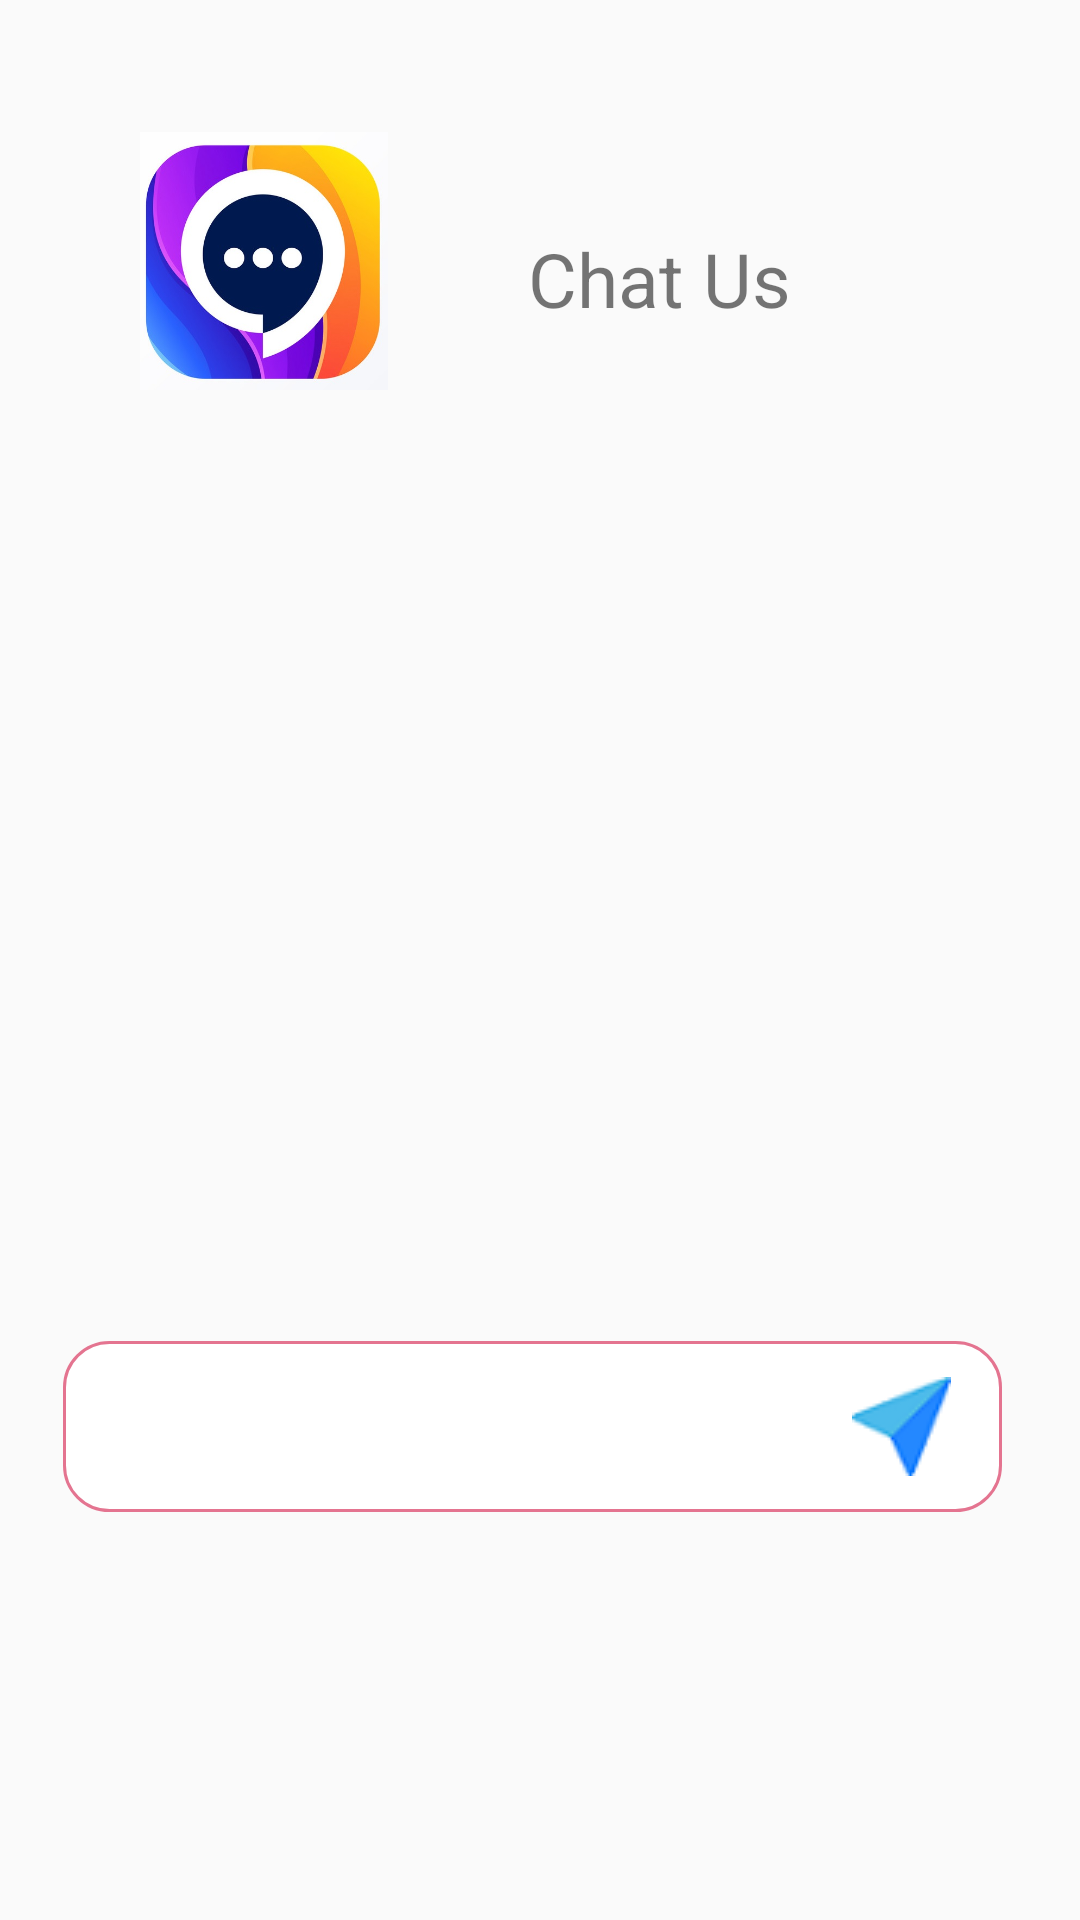

Locate icon controls on the screen. Image size 1080×1920, boxes as (x1, y1, x2, y2).
senddd: (852, 1377, 951, 1476)
